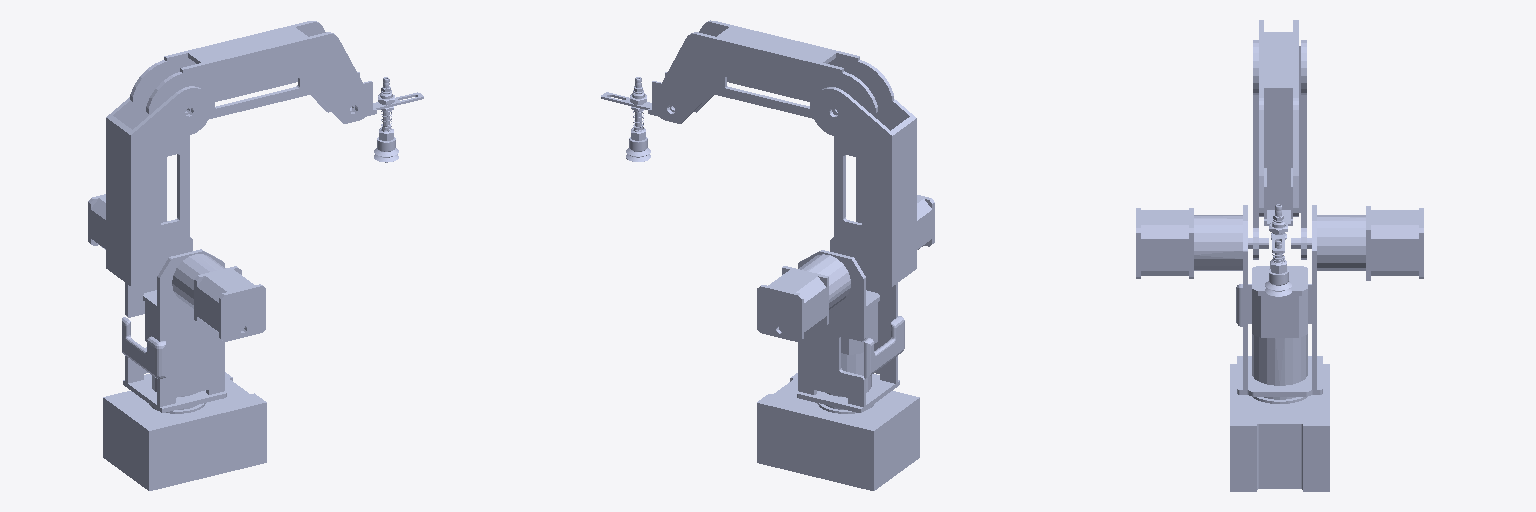
The robot description file, URDF, robot "robot_ros":
<?xml version="1.0" encoding="utf-8"?>
<!-- This URDF was automatically created by SolidWorks to URDF Exporter! Originally created by [author] ([email redacted]) 
     Commit Version: 1.6.0-4-g7f85cfe  Build Version: 1.6.7995.38578
     For more information, please see http://wiki.ros.org/sw_urdf_exporter -->
<robot
  name="robot_ros">
  <link
    name="base_link">
    <inertial>
      <origin
        xyz="0.0061581665561514 -2.08166817117217E-17 0.028231066482944"
        rpy="0 0 0" />
      <mass
        value="0.455511437974332" />
      <inertia
        ixx="0.000334700716099193"
        ixy="-5.3670164456993E-20"
        ixz="3.45328343065872E-06"
        iyy="0.000556407525859076"
        iyz="-1.1009754425207E-20"
        izz="0.000641899568373373" />
    </inertial>
    <visual>
      <origin
        xyz="0 0 0"
        rpy="0 0 0" />
      <geometry>
        <mesh
          filename="package://robot_ros/meshes/base_link.STL" />
      </geometry>
      <material
        name="">
        <color
          rgba="0.792156862745098 0.819607843137255 0.933333333333333 1" />
      </material>
    </visual>
    <collision>
      <origin
        xyz="0 0 0"
        rpy="0 0 0" />
      <geometry>
        <mesh
          filename="package://robot_ros/meshes/base_link.STL" />
      </geometry>
    </collision>
  </link>
  <link
    name="link_1">
    <inertial>
      <origin
        xyz="-0.000775778349115588 -0.000266516797392424 0.0818510097513665"
        rpy="0 0 0" />
      <mass
        value="0.447639411242642" />
      <inertia
        ixx="0.00203625325970176"
        ixy="-3.08442434404203E-06"
        ixz="-1.05109738456945E-05"
        iyy="0.000732238907622459"
        iyz="-4.76053298205711E-06"
        izz="0.0014614010077538" />
    </inertial>
    <visual>
      <origin
        xyz="0 0 0"
        rpy="0 0 0" />
      <geometry>
        <mesh
          filename="package://robot_ros/meshes/link_1.STL" />
      </geometry>
      <material
        name="">
        <color
          rgba="0.792156862745098 0.819607843137255 0.933333333333333 1" />
      </material>
    </visual>
    <collision>
      <origin
        xyz="0 0 0"
        rpy="0 0 0" />
      <geometry>
        <mesh
          filename="package://robot_ros/meshes/link_1.STL" />
      </geometry>
    </collision>
  </link>
  <joint
    name="joint_1"
    type="revolute">
    <origin
      xyz="0 0 0.066"
      rpy="0 0 0" />
    <parent
      link="base_link" />
    <child
      link="link_1" />
    <axis
      xyz="0 0 1" />
    <limit
      lower="-1.5707"
      upper="1.5707"
      effort="2.8"
      velocity="2" />
  </joint>
  <link
    name="link_2">
    <inertial>
      <origin
        xyz="-0.0297389445099029 0.0753556571846397 2.08166817117217E-17"
        rpy="0 0 0" />
      <mass
        value="0.0852986109446432" />
      <inertia
        ixx="0.000232529519276242"
        ixy="-1.38606911558525E-05"
        ixz="1.96500376823908E-20"
        iyy="6.00853324475423E-05"
        iyz="-1.6685990986468E-20"
        izz="0.000245514052950532" />
    </inertial>
    <visual>
      <origin
        xyz="0 0 0"
        rpy="0 0 0" />
      <geometry>
        <mesh
          filename="package://robot_ros/meshes/link_2.STL" />
      </geometry>
      <material
        name="">
        <color
          rgba="0.792156862745098 0.819607843137255 0.933333333333333 1" />
      </material>
    </visual>
    <collision>
      <origin
        xyz="0 0 0"
        rpy="0 0 0" />
      <geometry>
        <mesh
          filename="package://robot_ros/meshes/link_2.STL" />
      </geometry>
    </collision>
  </link>
  <joint
    name="joint_2"
    type="revolute">
    <origin
      xyz="0 0 0.11"
      rpy="1.5708 0 0" />
    <parent
      link="link_1" />
    <child
      link="link_2" />
    <axis
      xyz="0 0 1" />
    <limit
      lower="-1.5707"
      upper="1.5707"
      effort="4"
      velocity="2" />
  </joint>
  <link
    name="link_3">
    <inertial>
      <origin
        xyz="0.073801 0.010724 0.0010022"
        rpy="0 0 0" />
      <mass
        value="0.0806" />
      <inertia
        ixx="4.4503E-05"
        ixy="3.3423E-05"
        ixz="1.4309E-09"
        iyy="0.0002543"
        iyz="1.9147E-09"
        izz="0.00027363" />
    </inertial>
    <visual>
      <origin
        xyz="0 0 0"
        rpy="0 0 0" />
      <geometry>
        <mesh
          filename="package://robot_ros/meshes/link_3.STL" />
      </geometry>
      <material
        name="">
        <color
          rgba="0.79216 0.81961 0.93333 1" />
      </material>
    </visual>
    <collision>
      <origin
        xyz="0 0 0"
        rpy="0 0 0" />
      <geometry>
        <mesh
          filename="package://robot_ros/meshes/link_3.STL" />
      </geometry>
    </collision>
  </link>
  <joint
    name="joint_3"
    type="revolute">
    <origin
      xyz="0 0.145 0"
      rpy="0 0 0" />
    <parent
      link="link_2" />
    <child
      link="link_3" />
    <axis
      xyz="0 0 1" />
    <limit
      lower="-1.5707"
      upper="1.5707"
      effort="4"
      velocity="2" />
  </joint>
  <link
    name="link_4">
    <inertial>
      <origin
        xyz="0.013123 0.00049039 0"
        rpy="0 0 0" />
      <mass
        value="0.0049686" />
      <inertia
        ixx="8.8074E-07"
        ixy="4.6843E-07"
        ixz="2.9555E-22"
        iyy="1.8408E-06"
        iyz="-1.3481E-22"
        izz="1.9839E-06" />
    </inertial>
    <visual>
      <origin
        xyz="0 0 0"
        rpy="0 0 0" />
      <geometry>
        <mesh
          filename="package://robot_ros/meshes/link_4.STL" />
      </geometry>
      <material
        name="">
        <color
          rgba="0.79216 0.81961 0.93333 1" />
      </material>
    </visual>
    <collision>
      <origin
        xyz="0 0 0"
        rpy="0 0 0" />
      <geometry>
        <mesh
          filename="package://robot_ros/meshes/link_4.STL" />
      </geometry>
    </collision>
  </link>
  <joint
    name="joint_4"
    type="revolute">
    <origin
      xyz="0.15579 -0.036 0.001"
      rpy="0 0 0" />
    <parent
      link="link_3" />
    <child
      link="link_4" />
    <axis
      xyz="0 0 -1" />
    <limit
      lower="-1.5707"
      upper="1.5707"
      effort="4"
      velocity="2" />
  </joint>
  <link
    name="link_5">
    <inertial>
      <origin
        xyz="2.92249791256083E-07 -0.0206129018771274 5.72506111455595E-07"
        rpy="0 0 0" />
      <mass
        value="0.00527148277908409" />
      <inertia
        ixx="3.33481076596846E-07"
        ixy="1.62930512564563E-11"
        ixz="-3.19097875417096E-12"
        iyy="1.37076605922237E-07"
        iyz="-4.1330091990924E-11"
        izz="3.33482014723335E-07" />
    </inertial>
    <visual>
      <origin
        xyz="0 0 0"
        rpy="0 0 0" />
      <geometry>
        <mesh
          filename="package://robot_ros/meshes/link_5.STL" />
      </geometry>
      <material
        name="">
        <color
          rgba="0.792156862745098 0.819607843137255 0.933333333333333 1" />
      </material>
    </visual>
    <collision>
      <origin
        xyz="0 0 0"
        rpy="0 0 0" />
      <geometry>
        <mesh
          filename="package://robot_ros/meshes/link_5.STL" />
      </geometry>
    </collision>
  </link>
  <joint
    name="joint_5"
    type="fixed">
    <origin
      xyz="0.039335 -0.009 0"
      rpy="0 0 0" />
    <parent
      link="link_4" />
    <child
      link="link_5" />
    <axis
      xyz="0 0 0" />
  </joint>
</robot>

--- Facts derived from the render (not from the file) ---
The picture shows the robot from 3 angles, left to right: view 1: azimuth 30°, elevation 25°; view 2: azimuth 150°, elevation 25°; view 3: azimuth 270°, elevation 25°; orthographic projection.
Robot: robot_ros — 6 links, 5 joints (4 revolute, 1 fixed); root link base_link; default pose: all joints at 0.
Visible links, largest first — view 1: link_1, link_2, link_3, base_link, link_5, link_4; view 2: link_1, link_2, link_3, base_link, link_5, link_4; view 3: link_1, base_link, link_2, link_3, link_5, link_4.
Boxes of the visible links, x1,y1,x2,y2 form: link_1: (88,194,265,412); link_2: (106,86,211,286); link_3: (130,21,367,123); base_link: (103,372,266,490); link_5: (374,77,398,162); link_4: (349,72,423,116); link_1: (757,195,934,412); link_2: (811,87,916,287); link_3: (657,20,893,123); base_link: (757,373,919,490); link_5: (626,77,650,161); link_4: (601,72,674,116); link_1: (1136,205,1423,396); base_link: (1230,364,1329,491); link_2: (1253,40,1306,259); link_3: (1259,20,1298,216); link_5: (1265,204,1291,296); link_4: (1264,168,1292,252).
Size in the robot's own frame: 0.2831 by 0.216 by 0.358 metres.
Meshes: 6 distinct files referenced, 6 mesh visuals loaded (6 binary STL).